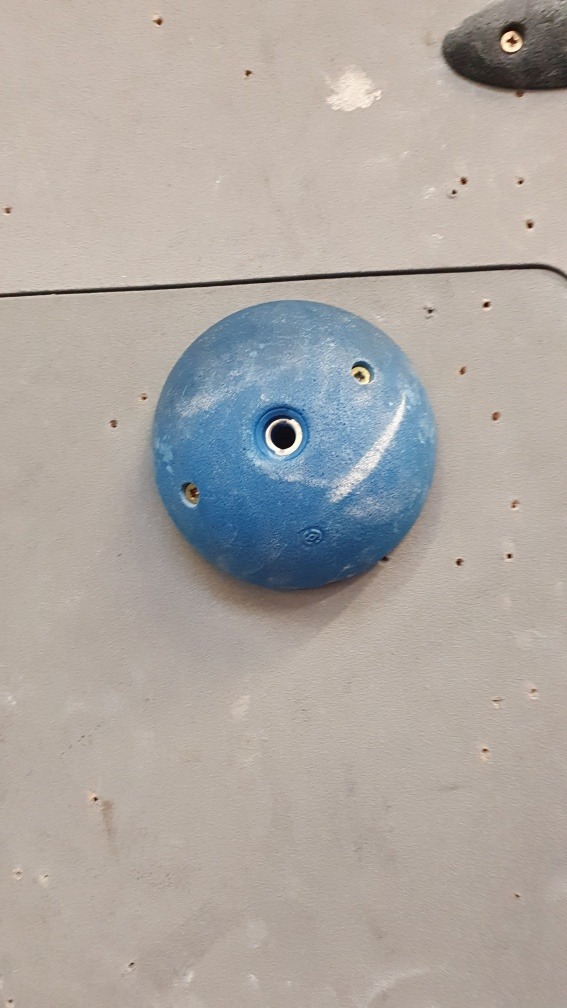Sloper: (147, 296, 441, 598)
